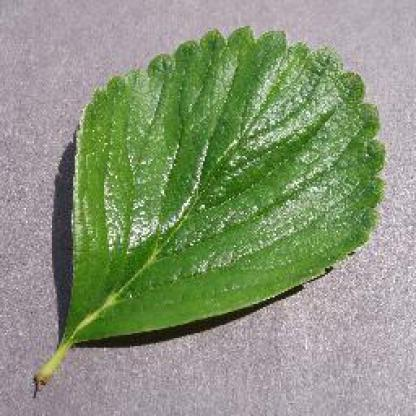healthy: (20, 20, 396, 394)
